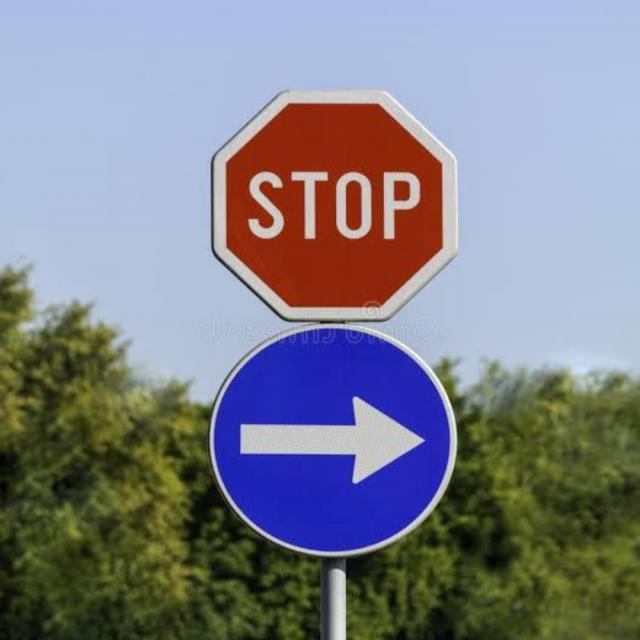Turn Right: (197, 320, 457, 554)
